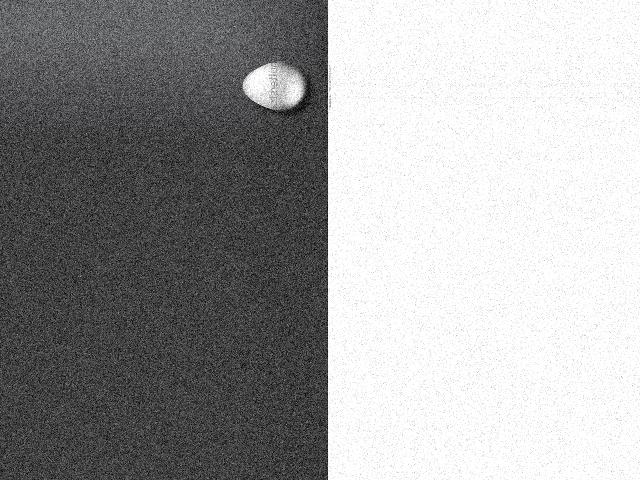egg: (241, 61, 306, 111)
